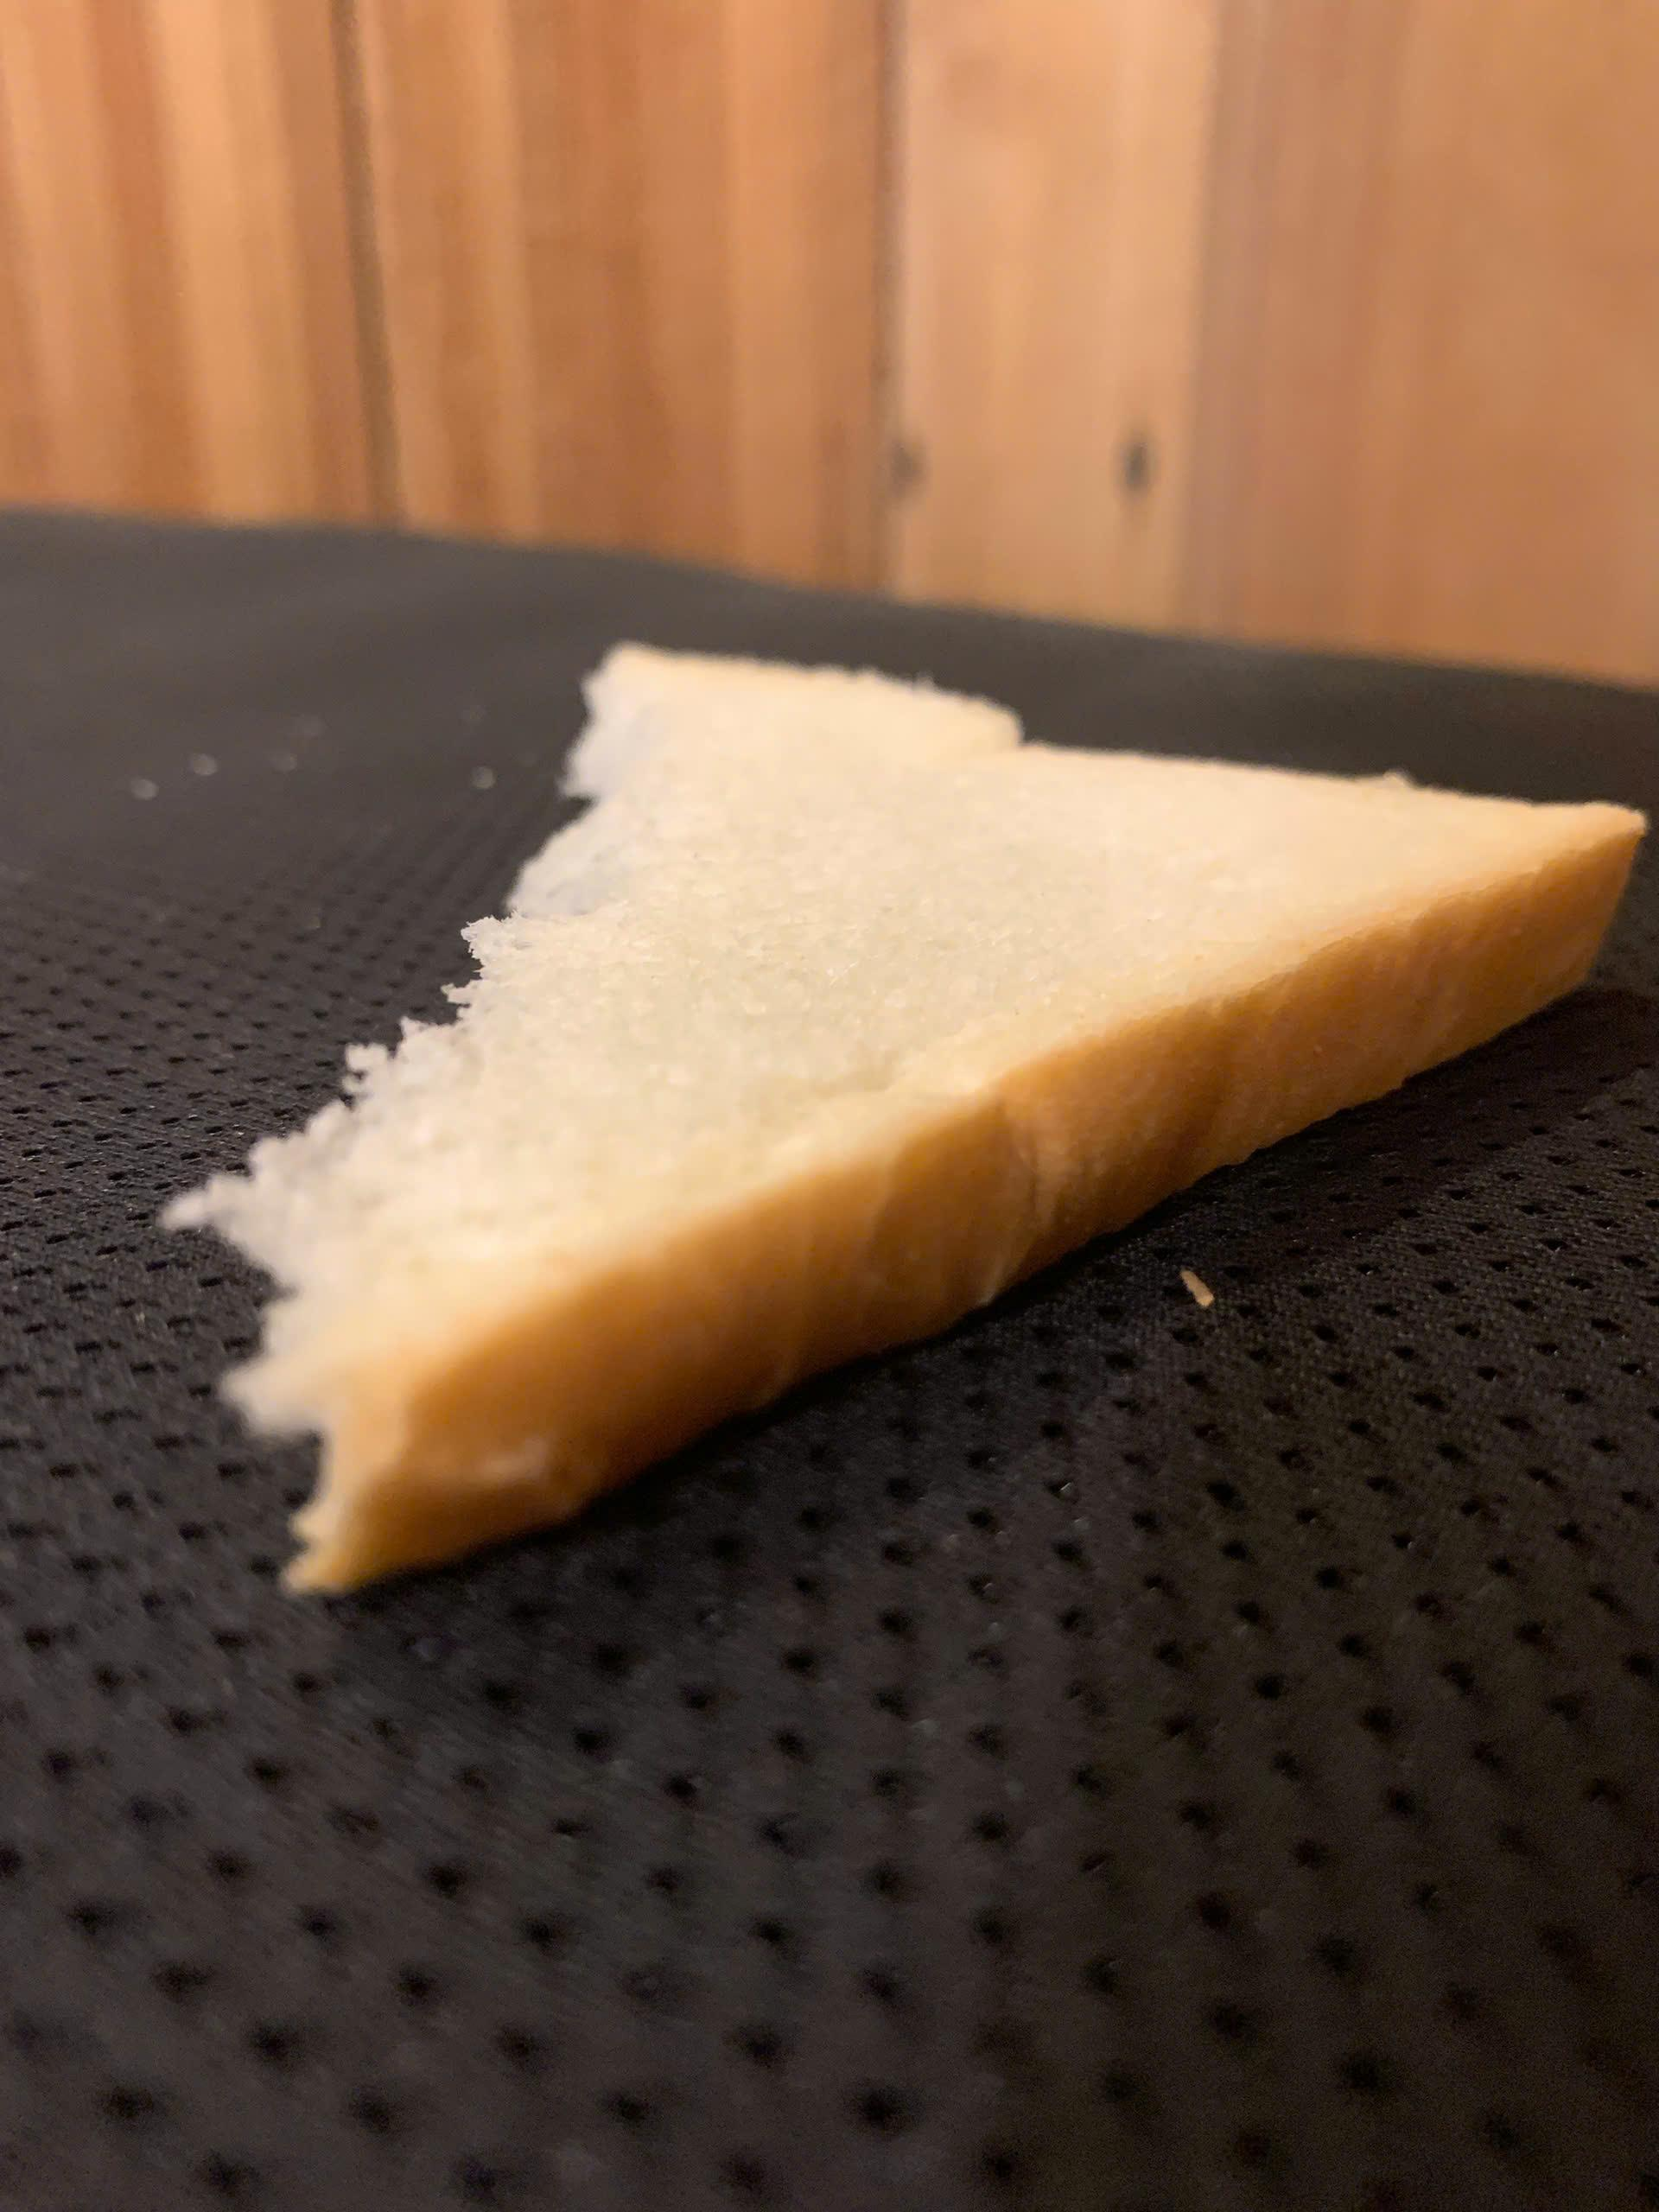Huu co: (173, 641, 1659, 1578)
